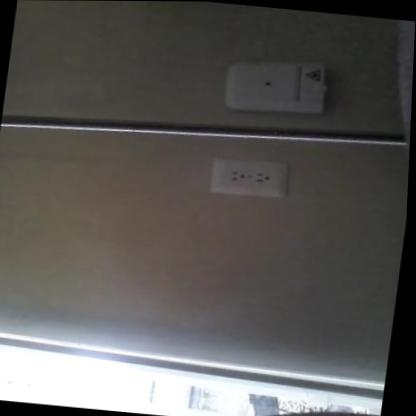OUTLET: (208, 154, 292, 199)
